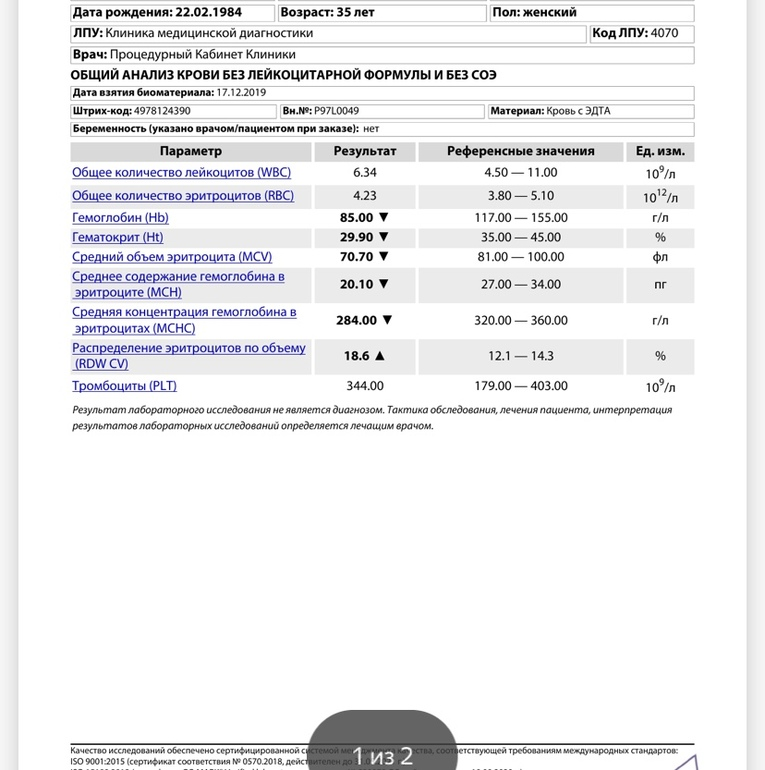column: (71, 142, 306, 393), (446, 142, 596, 393), (332, 142, 398, 393), (634, 142, 686, 393)
